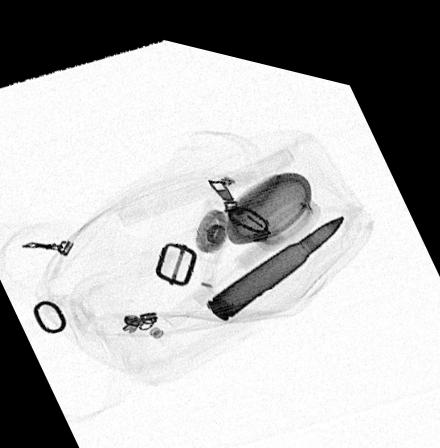Bullet: (204, 197, 346, 310)
